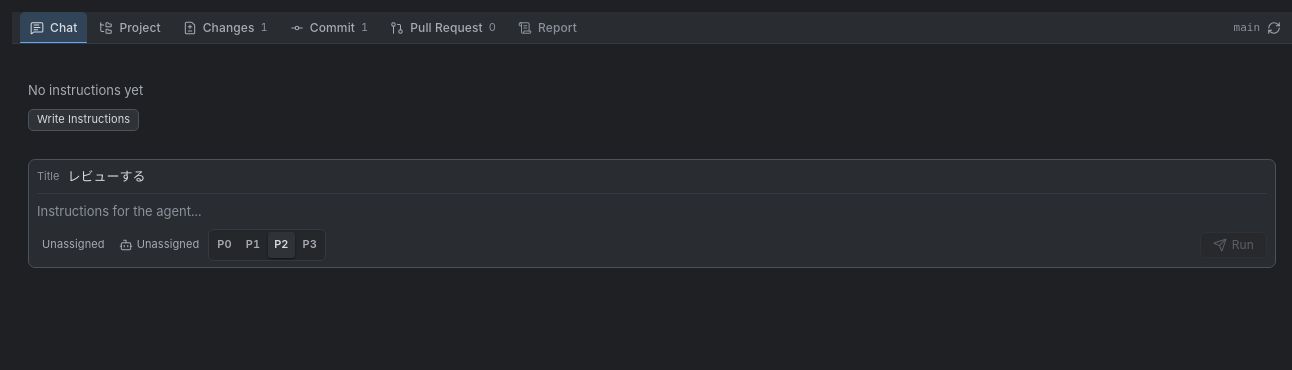
the workbench display state › does not repeat the automatic fetch when the first file cannot be opened
Step 1. Click the tab "Changes 1" → point(225, 28), box [173,12,278,44]
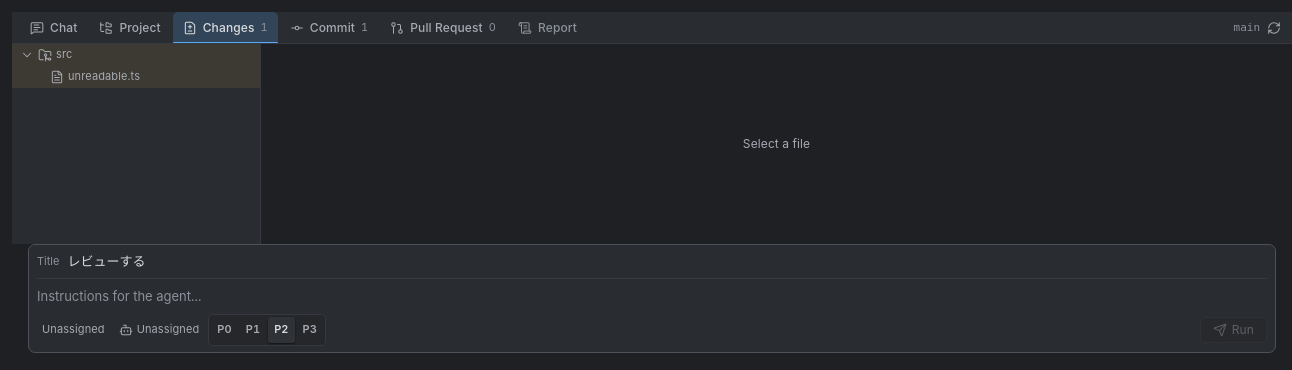
Result: the text "unreadable.ts" is shown at [68,69,140,83]
